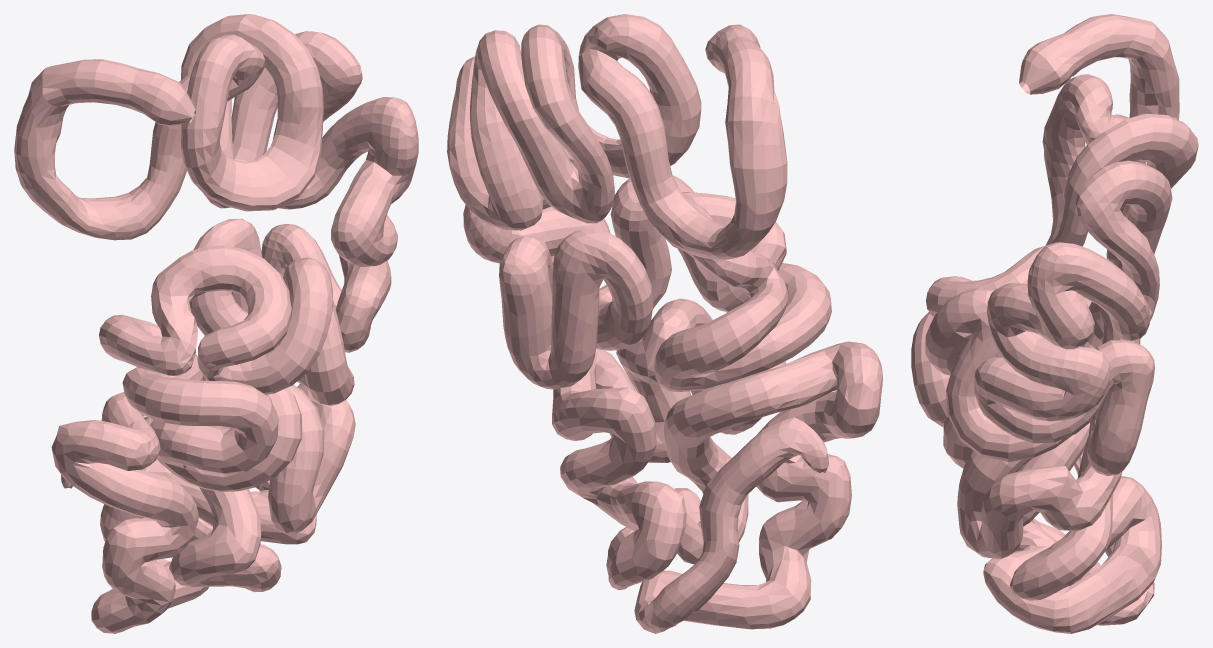
The model's file is VH_M_Small_Intestine_0.6.glb.
3 renders of one model, left to right at view 1: azimuth 30°, elevation 25°; view 2: azimuth 150°, elevation 25°; view 3: azimuth 270°, elevation 25°, orthographic. The views are drawn at different scales.
Parts seen in each view (by area): view 1: VH_M_jejunum, VH_M_ileum, VH_M_duodenum_horizonal, VH_M_duodenum_superior, VH_M_duodenum_descending, VH_M_duodenum_ascending, VH_M_duodenal_ampulla, VH_M_ileum_terminal; view 2: VH_M_jejunum, VH_M_ileum, VH_M_ileum_terminal, VH_M_duodenum_descending, VH_M_duodenum_ascending, VH_M_duodenum_horizonal, VH_M_duodenum_superior; view 3: VH_M_jejunum, VH_M_ileum, VH_M_duodenum_superior, VH_M_duodenum_descending, VH_M_duodenal_ampulla.
Part boxes in pixels (x1,y1,x2,y2): VH_M_jejunum: (99,14,418,405); VH_M_ileum: (51,367,355,633); VH_M_duodenum_horizonal: (33,178,178,240); VH_M_duodenum_superior: (42,59,157,113); VH_M_duodenum_descending: (14,69,70,202); VH_M_duodenum_ascending: (147,72,245,191); VH_M_duodenal_ampulla: (143,73,196,125); VH_M_ileum_terminal: (61,469,157,561); VH_M_jejunum: (447,14,788,391); VH_M_ileum: (552,263,882,633); VH_M_ileum_terminal: (644,417,828,627); VH_M_duodenum_descending: (724,96,787,249); VH_M_duodenum_ascending: (578,49,677,205); VH_M_duodenum_horizonal: (641,186,762,259); VH_M_duodenum_superior: (713,29,779,105); VH_M_jejunum: (925,74,1198,475); VH_M_ileum: (911,312,1161,633); VH_M_duodenum_superior: (1052,14,1155,76); VH_M_duodenum_descending: (1128,23,1179,119); VH_M_duodenal_ampulla: (1019,38,1074,94).
Size of the model in its own units: 0.1883 by 0.2654 by 0.1222.
